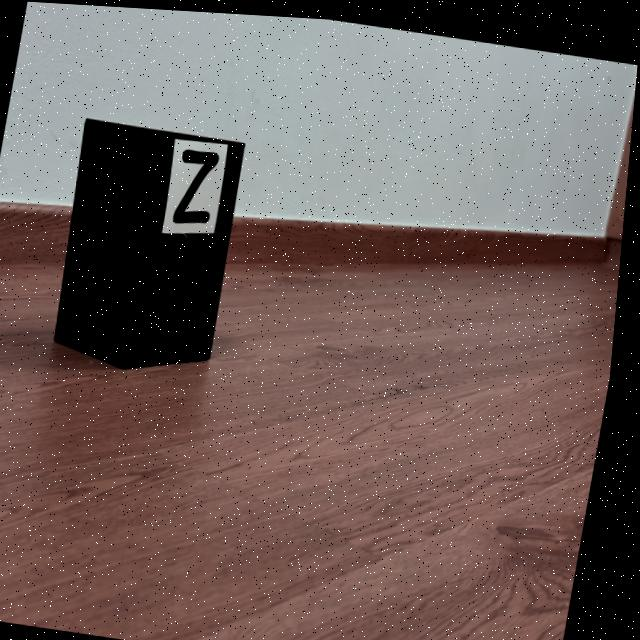Z: (176, 146, 221, 221)
